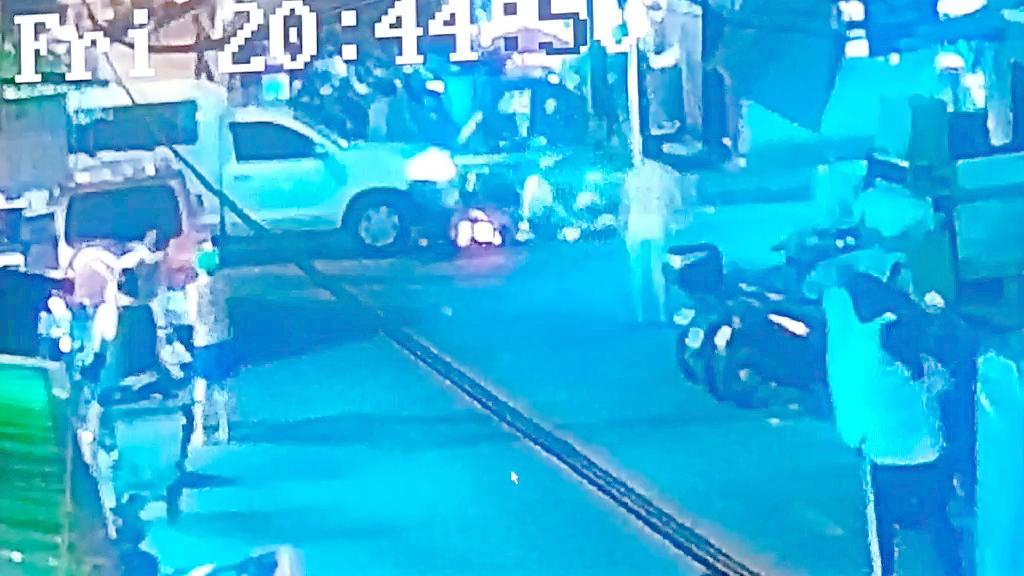Car: (24, 74, 482, 249), (27, 146, 224, 322)
Major Accident: (37, 57, 674, 268)
Motor: (383, 110, 676, 275), (668, 238, 904, 400)
